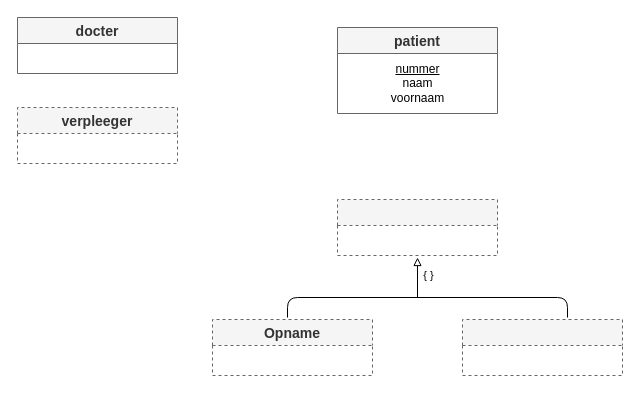
This 640x396 diagram has some shape labels left out. Each missing label, with the centre of its shape:
bezoek: the point at 417,227
dagBezoek: the point at 542,347
